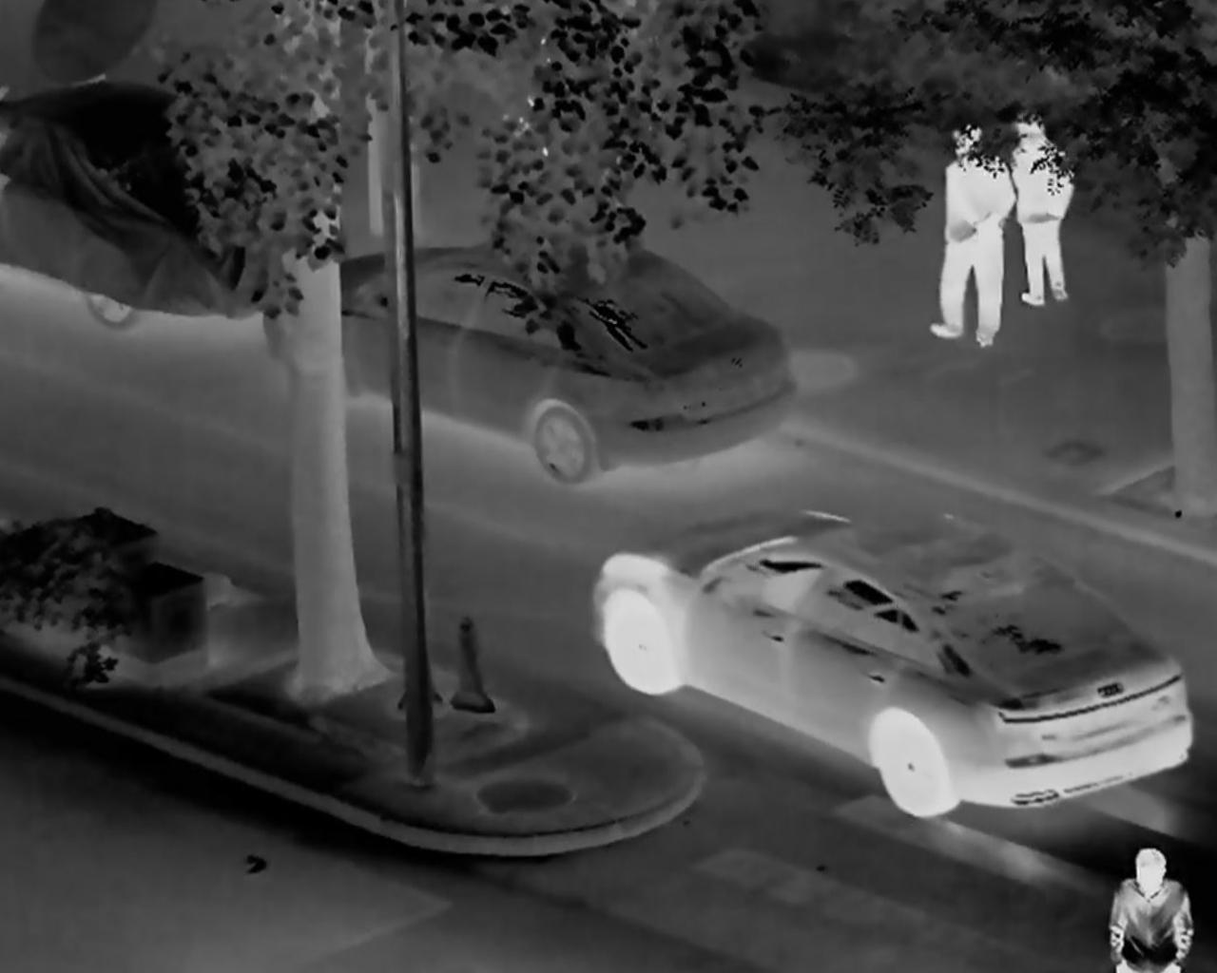person: (936, 118, 1014, 345), (1003, 110, 1075, 309), (1109, 849, 1191, 973)
